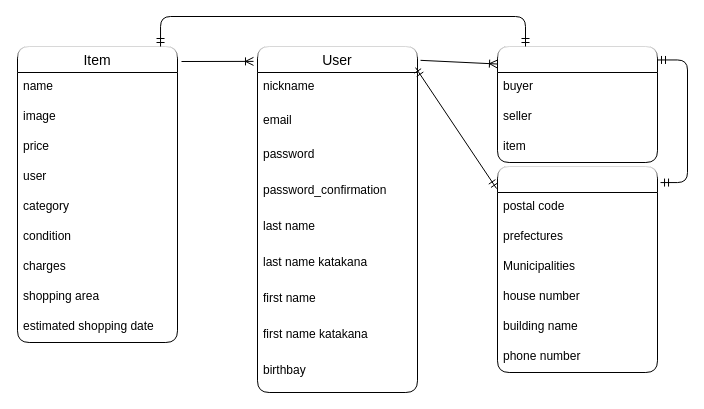
Image size: 704x409. Some labels were removed from this diagram. Each missing label, with the box of its shape:
address: (496, 166, 658, 372)
payment: (496, 46, 658, 162)
